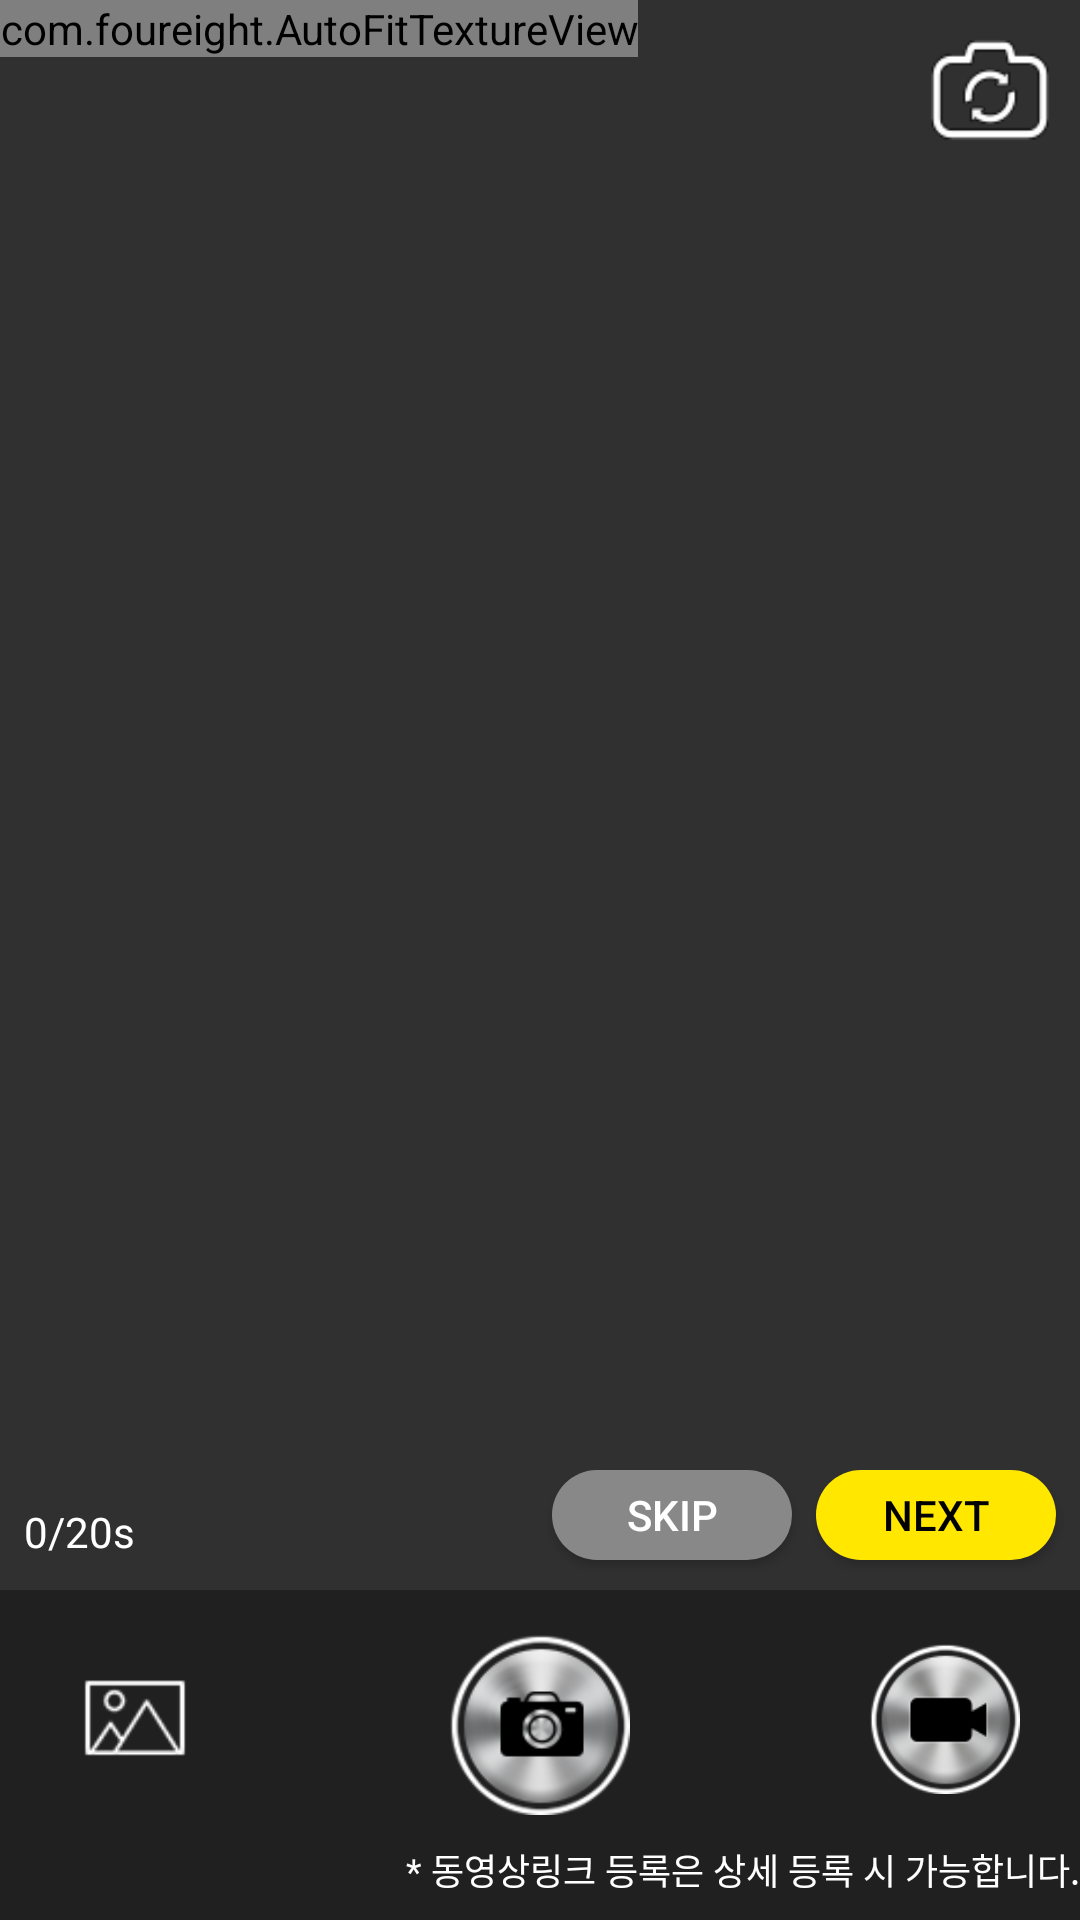

Icon click points for this 1080 x 1920 phone screenshot, format (x,y):
cam toggle: (990,90)
